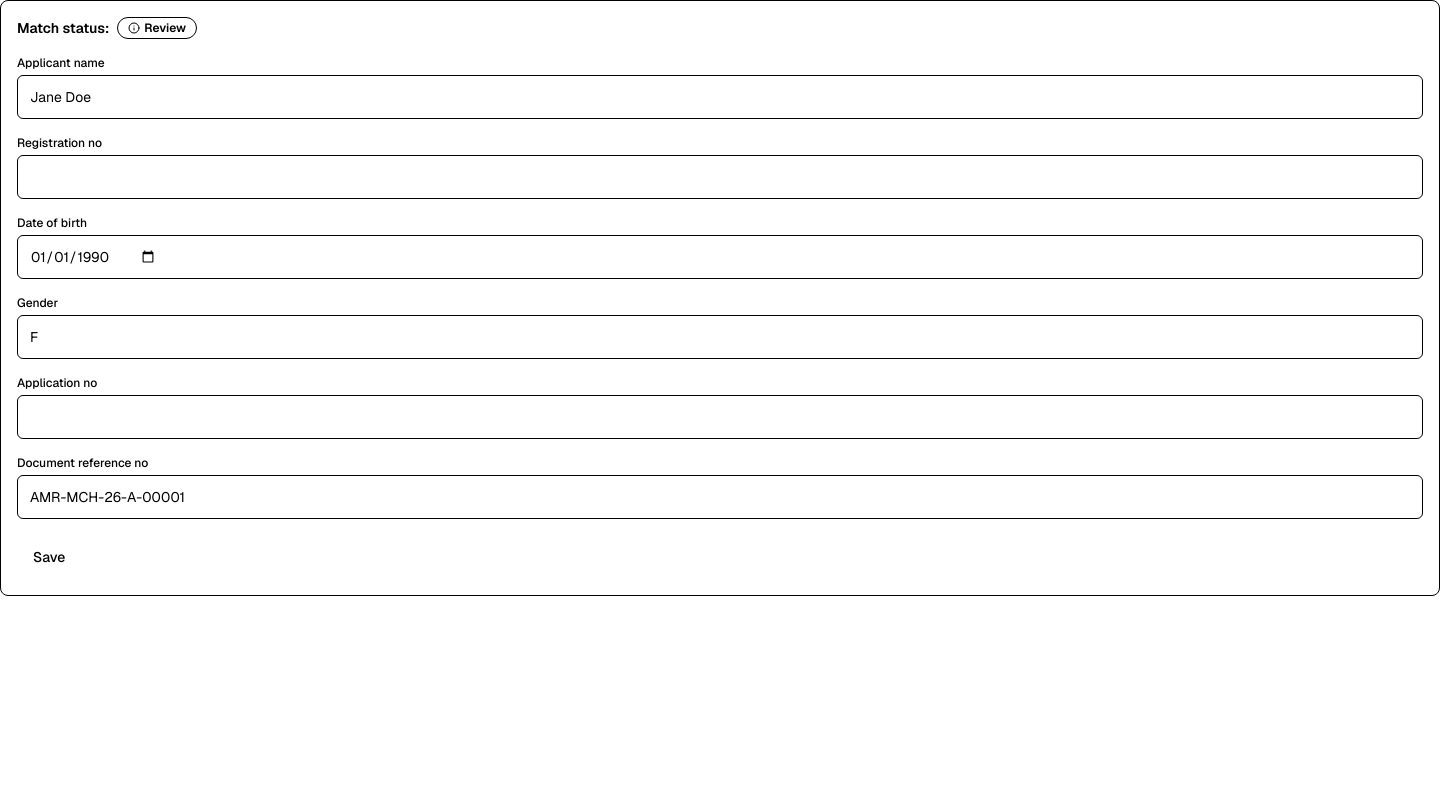
EvalCorrectionForm › submits only the changed fields and shows the new match status
The image size is (1440, 810).
Type "12345" into the field labelled "Registration no" at [720, 177], box [17, 155, 1423, 199]
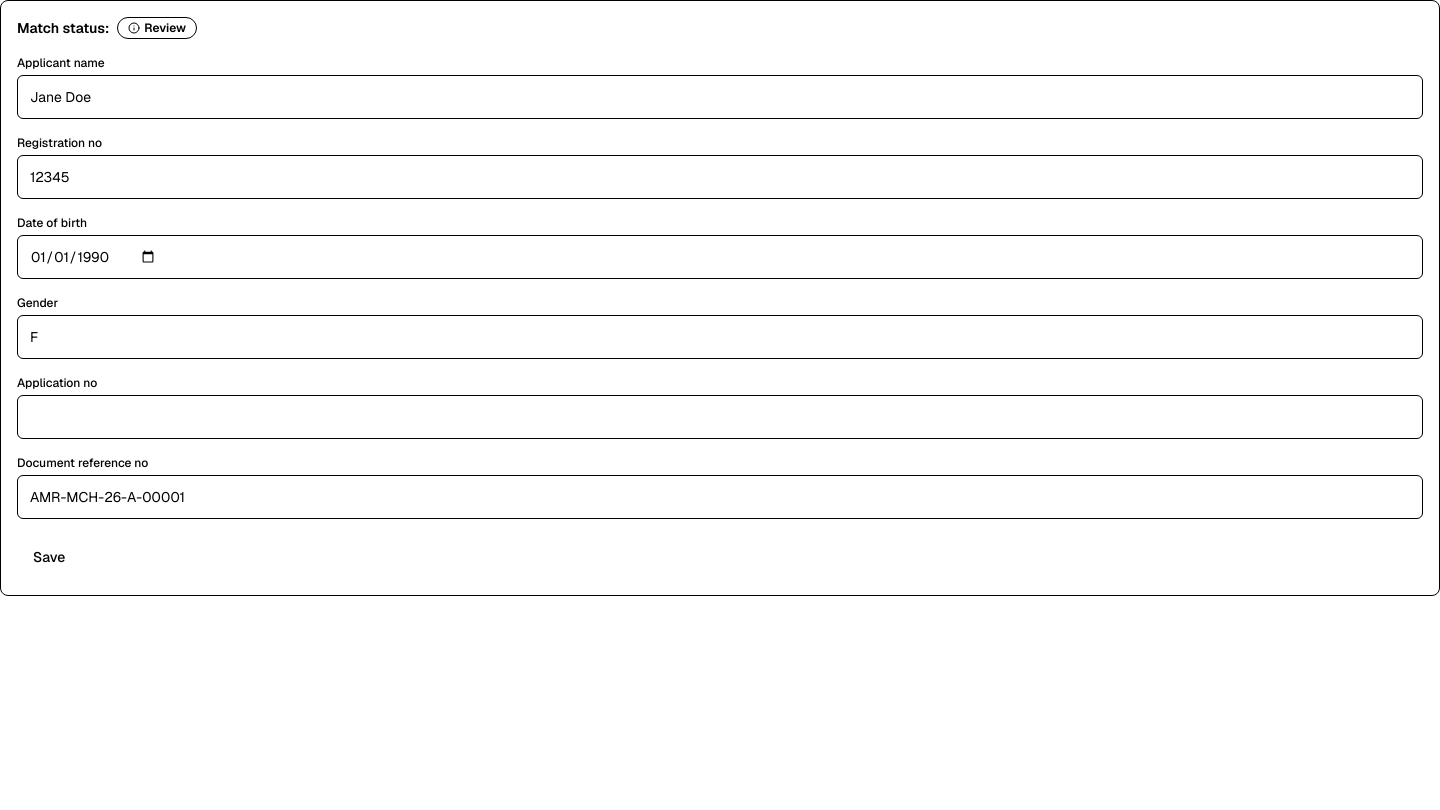
Click the button "Save" at [49, 557], box [17, 535, 81, 579]
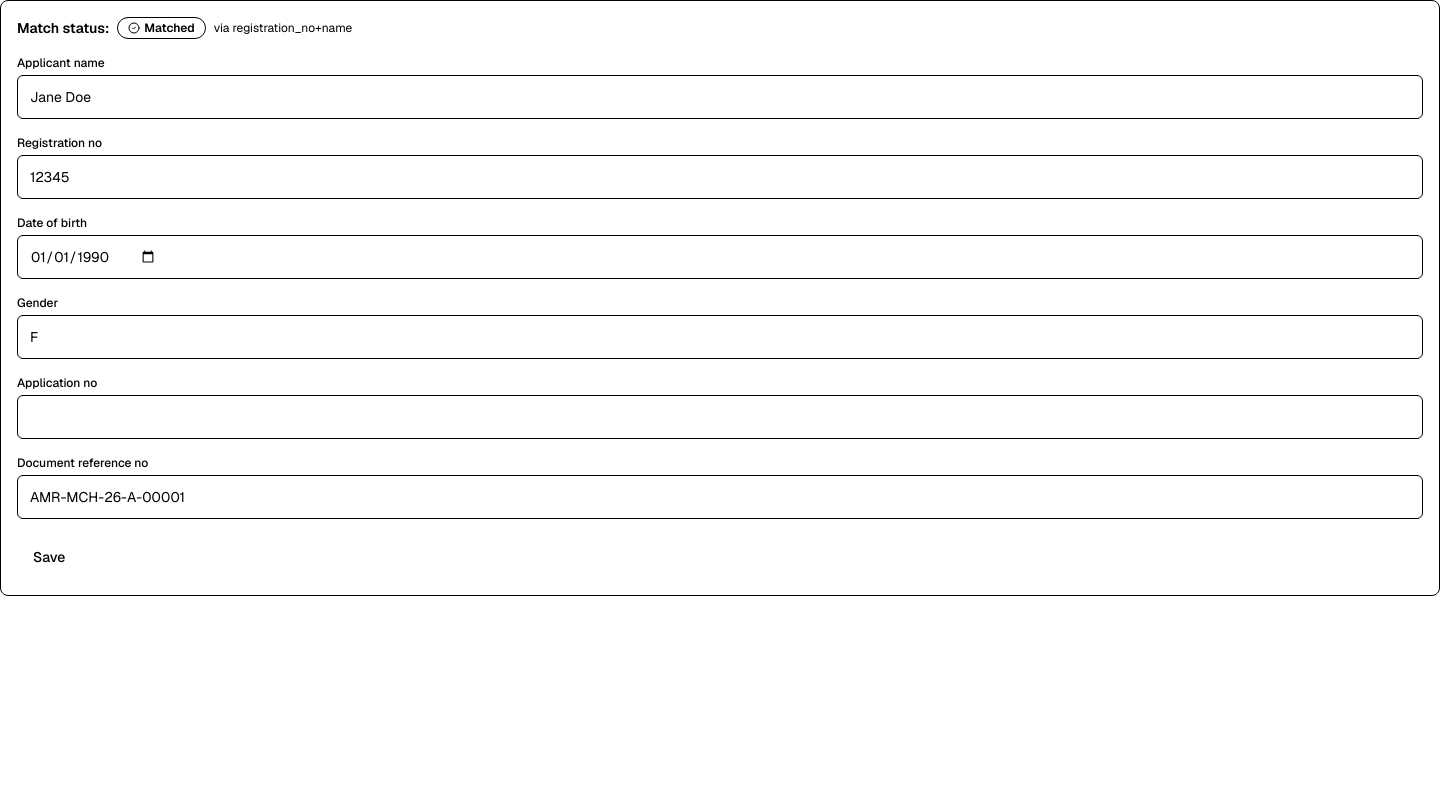
Now the text "Matched" is shown, box [117, 17, 206, 39]
